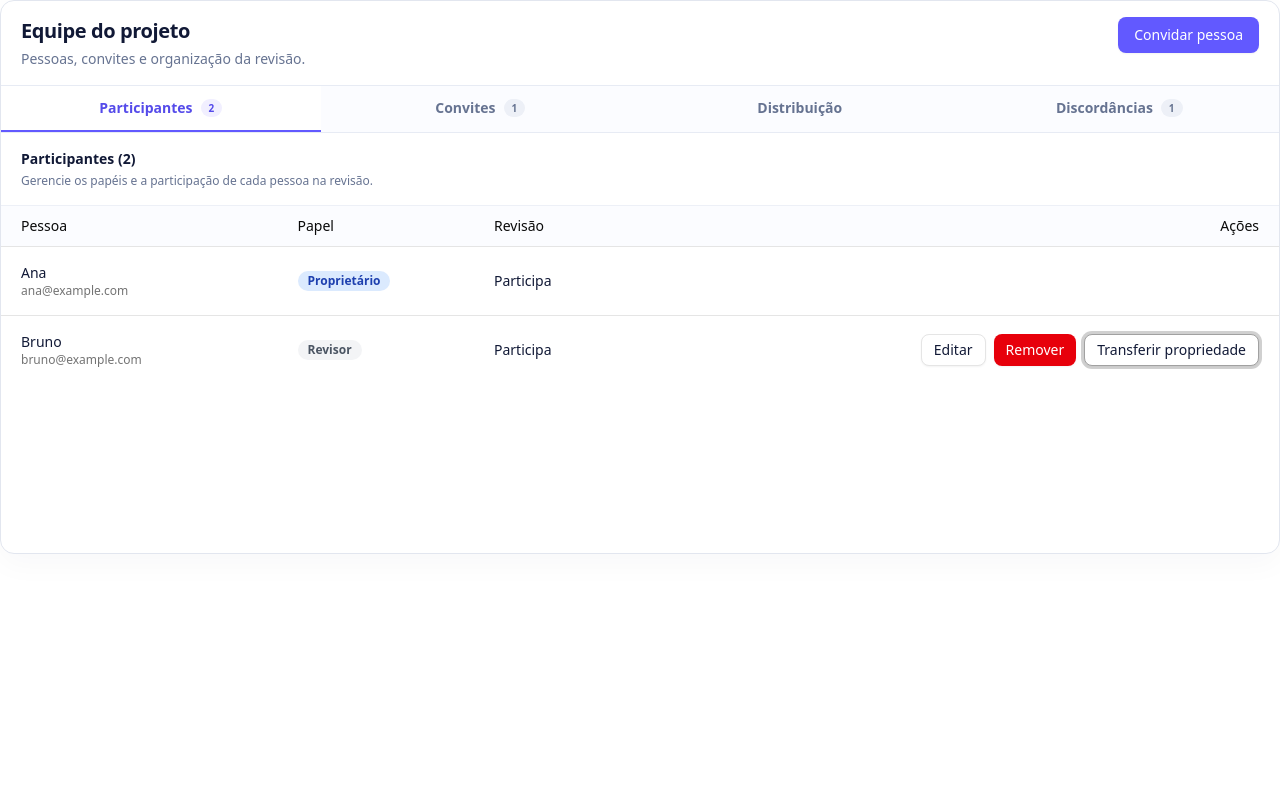
Test: project team permissions and mutations › returns keyboard focus to Transferir propriedade para Bruno after Escape
The width and height of the screenshot is (1280, 800).
Click the button with aria-label "Transferir propriedade para Bruno" at point(1172, 350), box [1084, 334, 1259, 366]
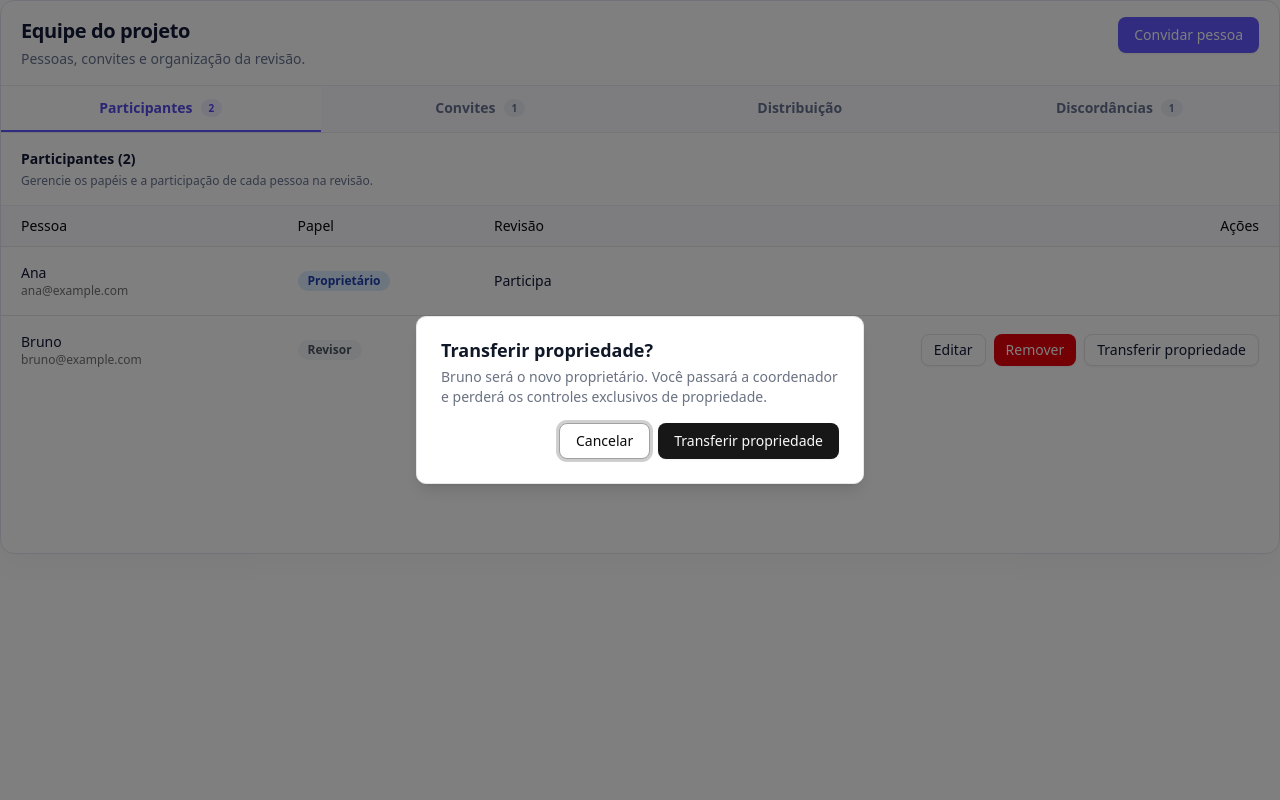
Press Escape in the dialog, box [416, 316, 864, 484]
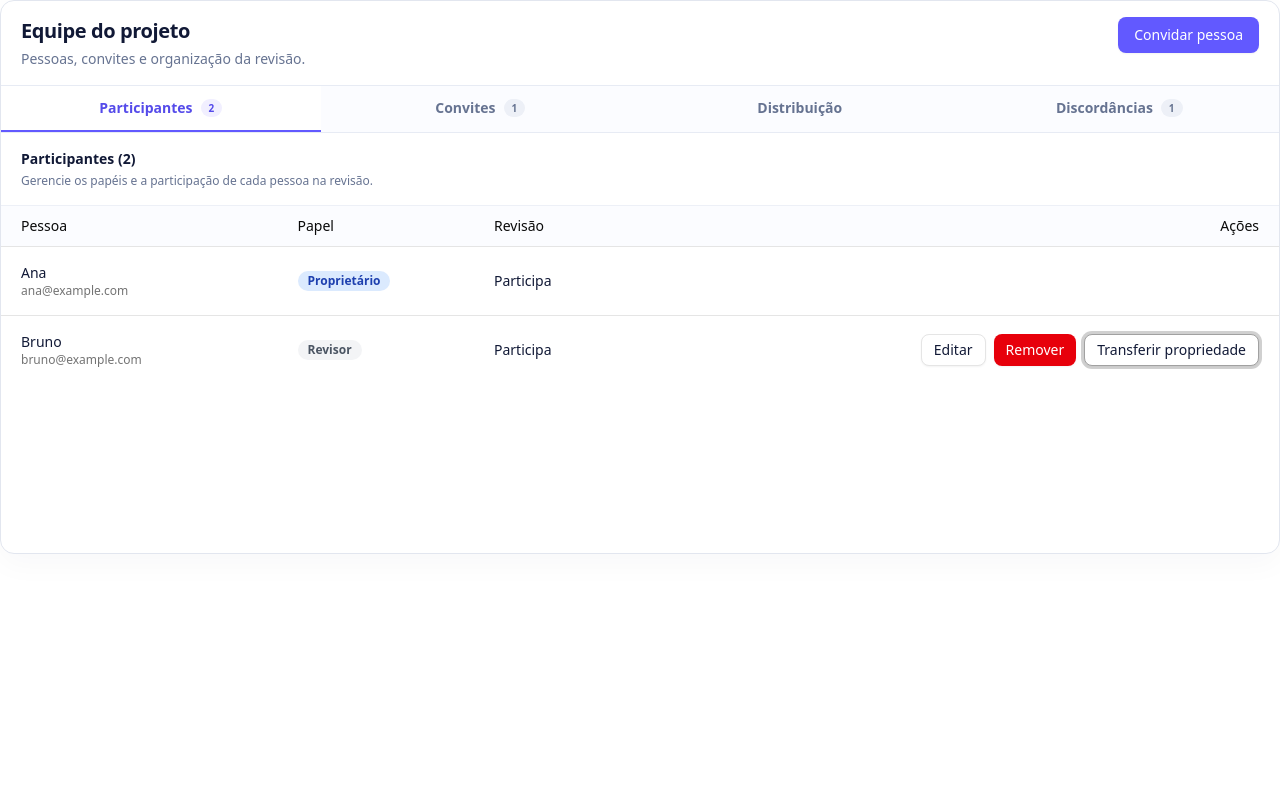
Expected: the dialog is gone
